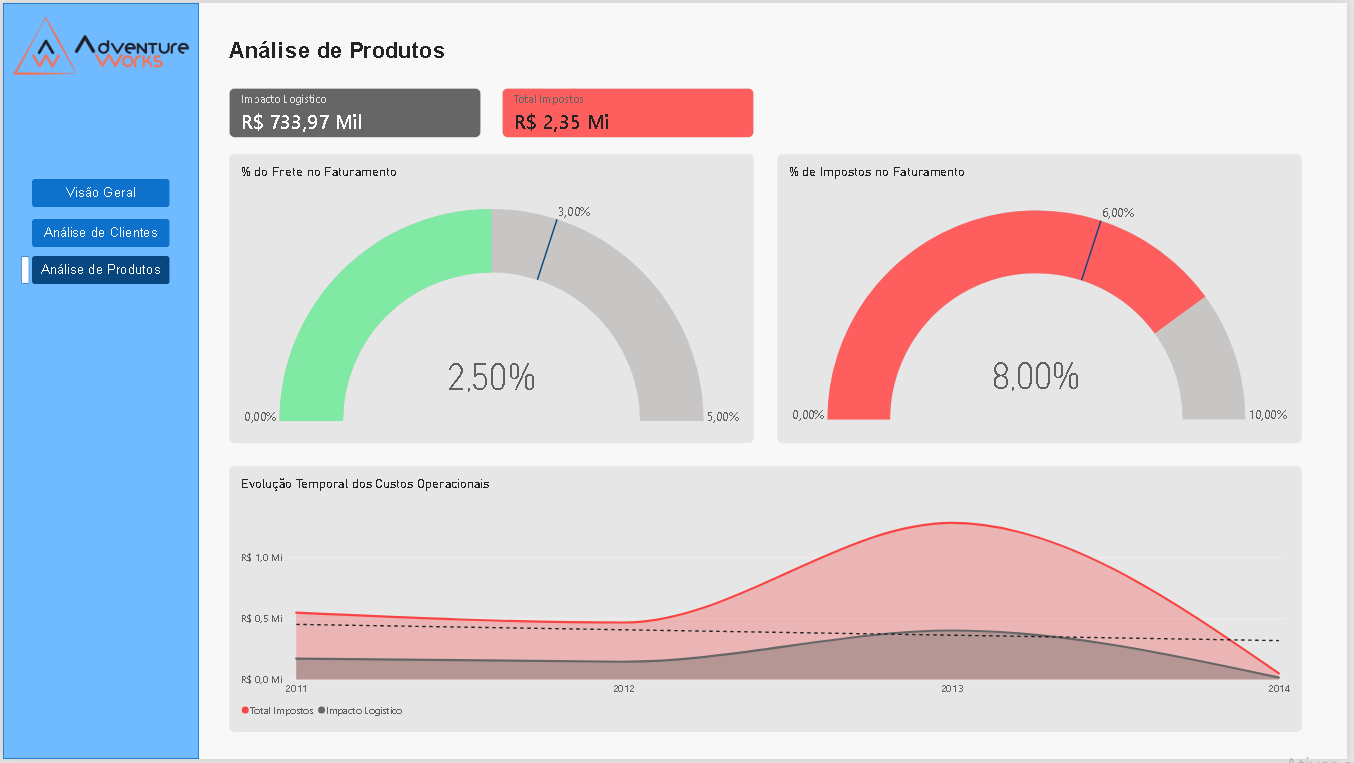

Layout of this report page (visuals, bound fields, positions):
{"tool":"powerbi","page":{"name":"Análise de Produtos","canvas":[1920,1080],"ordinal":2},"visuals":[{"type":"shape","box":[0,0,280,1080],"z":0},{"type":"image","box":[0,0,280,122],"z":1000},{"type":"textbox","box":[323.3,48.3,360,40],"z":2000},{"type":"cardVisual","fields":{"Data":["FactInternetSales.Impacto Logistico"]},"box":[323.3,121.7,360,71.7],"z":4000},{"type":"actionButton","box":[41.7,250.8,196.7,40],"z":9000},{"type":"actionButton","box":[41.7,308.3,196.7,40],"z":10000},{"type":"cardVisual","fields":{"Data":["FactInternetSales.Total Descontos"]},"box":[712.9,121.4,360,71.7],"z":11001},{"type":"lineChart","title":"Evolução Temporal dos Custos Operacionais","fields":{"Category":["DimDate.FullDateAlternateKey.Variation.Hierarquia de datas.Ano","DimDate.FullDateAlternateKey.Variation.Hierarquia de datas.Trimestre","DimDate.FullDateAlternateKey.Variation.Hierarquia de datas.Mês","DimDate.FullDateAlternateKey.Variation.Hierarquia de datas.Dia"],"Y":["FactInternetSales.Total Impostos","FactInternetSales.Impacto Logistico"]},"box":[322.9,661.4,1532.9,380],"z":11002},{"type":"gauge","title":"% do Frete no Faturamento","fields":{"MaxValue":["FactInternetSales.Meta Frete Máximo"],"TargetValue":["FactInternetSales.Meta Frete"],"Y":["FactInternetSales.Frete no Faturamento"]},"box":[322.9,215.7,750,412.9],"z":11003},{"type":"gauge","title":"% de Impostos no Faturamento","fields":{"MaxValue":["FactInternetSales.Meta Máxima Imposto"],"TargetValue":["FactInternetSales.Meta Imposto"],"Y":["FactInternetSales.Impostos no Faturamento"]},"box":[1105.7,215.7,750,412.9],"z":11004},{"type":"actionButton","box":[41.7,361.2,196.7,40],"z":11005},{"type":"shape","box":[25,361,12,40],"z":11006}]}

Visuals, with their boxes in screenshot pixels (x1, y1, x2, y2), scaled from the page's 1920x1080 canvas onto the 1354x763 screenshot:
shape: detection(0, 0, 197, 762)
image: detection(0, 0, 197, 86)
textbox: detection(228, 34, 482, 62)
cardVisual - FactInternetSales.Impacto Logistico: detection(228, 86, 482, 137)
actionButton: detection(29, 177, 168, 205)
actionButton: detection(29, 218, 168, 246)
cardVisual - FactInternetSales.Total Descontos: detection(503, 86, 757, 136)
"Evolução Temporal dos Custos Operacionais" lineChart: detection(228, 467, 1309, 736)
"% do Frete no Faturamento" gauge: detection(228, 152, 757, 444)
"% de Impostos no Faturamento" gauge: detection(780, 152, 1309, 444)
actionButton: detection(29, 255, 168, 283)
shape: detection(18, 255, 26, 283)
